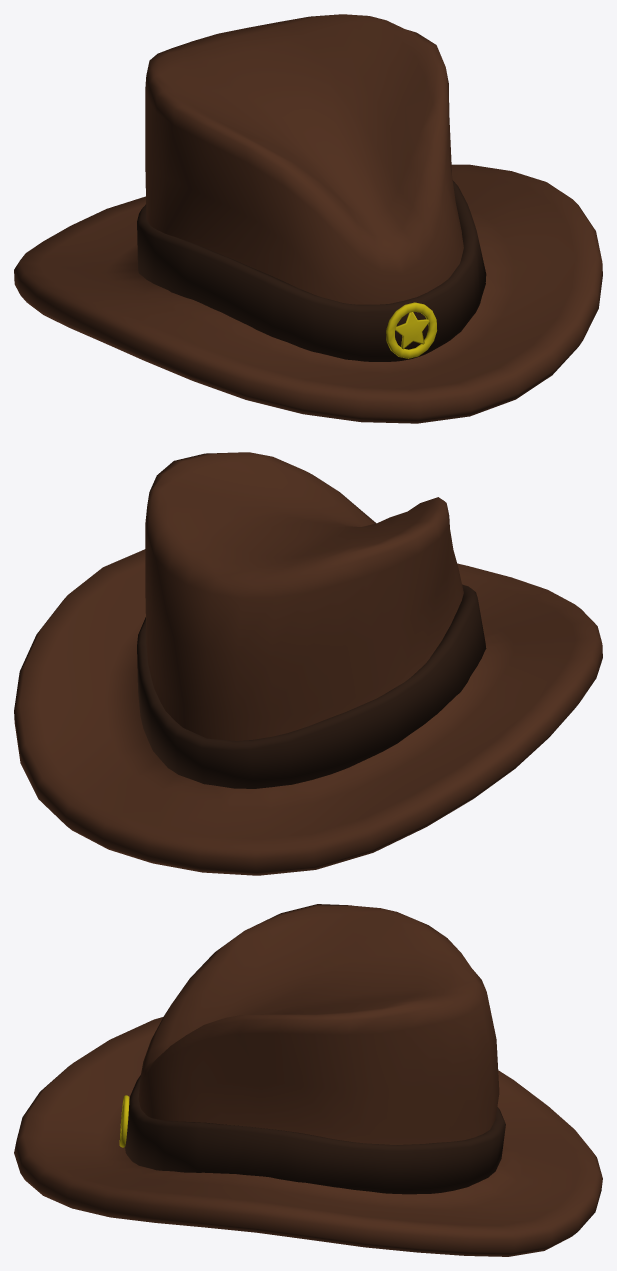
The picture shows the model from 3 angles, top to bottom: view 1: azimuth 30°, elevation 25°; view 2: azimuth 150°, elevation 25°; view 3: azimuth 270°, elevation 25°; orthographic projection. The views are drawn at different scales.
Visible parts, largest first — view 1: hatCowboy; view 2: hatCowboy; view 3: hatCowboy.
Boxes of the visible parts, bbox=[...] form: hatCowboy: bbox=[14, 14, 602, 423]; hatCowboy: bbox=[14, 452, 602, 875]; hatCowboy: bbox=[14, 904, 602, 1256].
Size of the model in its own units: 0.6715 by 0.3428 by 0.7718.
2 materials, 2 textured.
